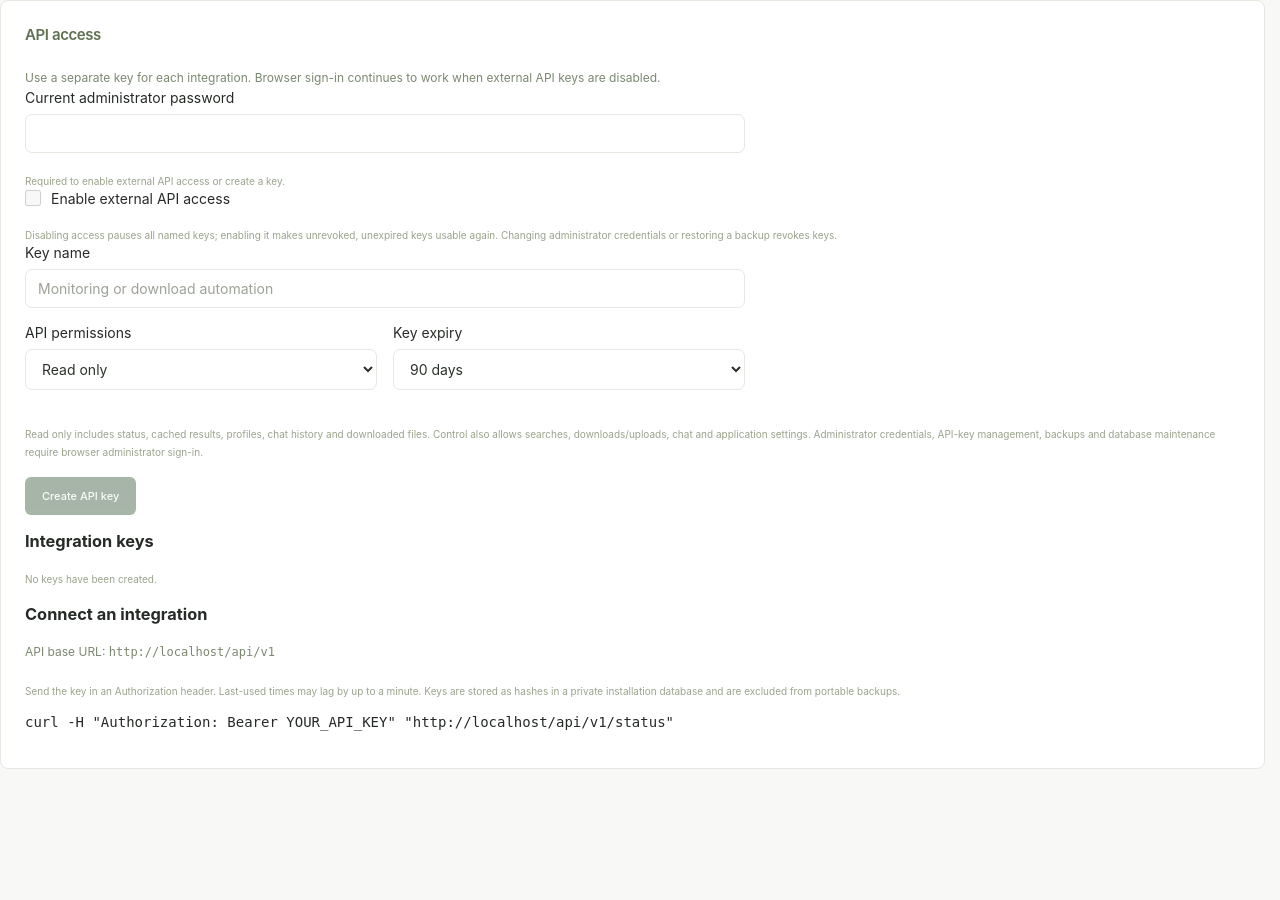
Scenario: restores the disabled switch if enabling is rejected
This screenshot has width=1280, height=900.
Expected: the text "No keys have been created." is shown, [25, 573, 157, 585]
Type "wrong" into the password field labelled "Current administrator password".
click(385, 133); type("wrong")  # box [25, 114, 745, 153]
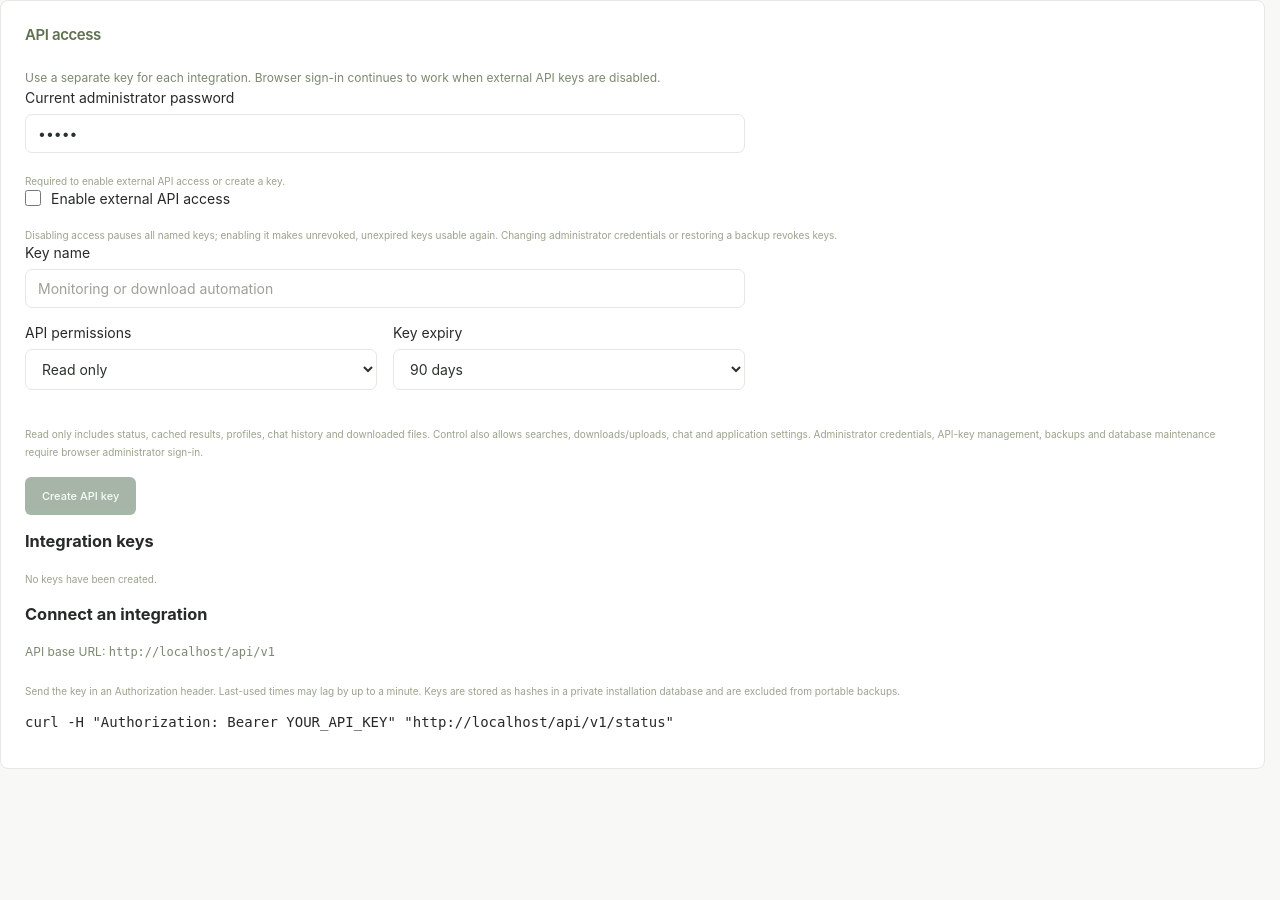
Click the checkbox labelled "Enable external API access".
click(33, 198)  # box [25, 190, 41, 206]
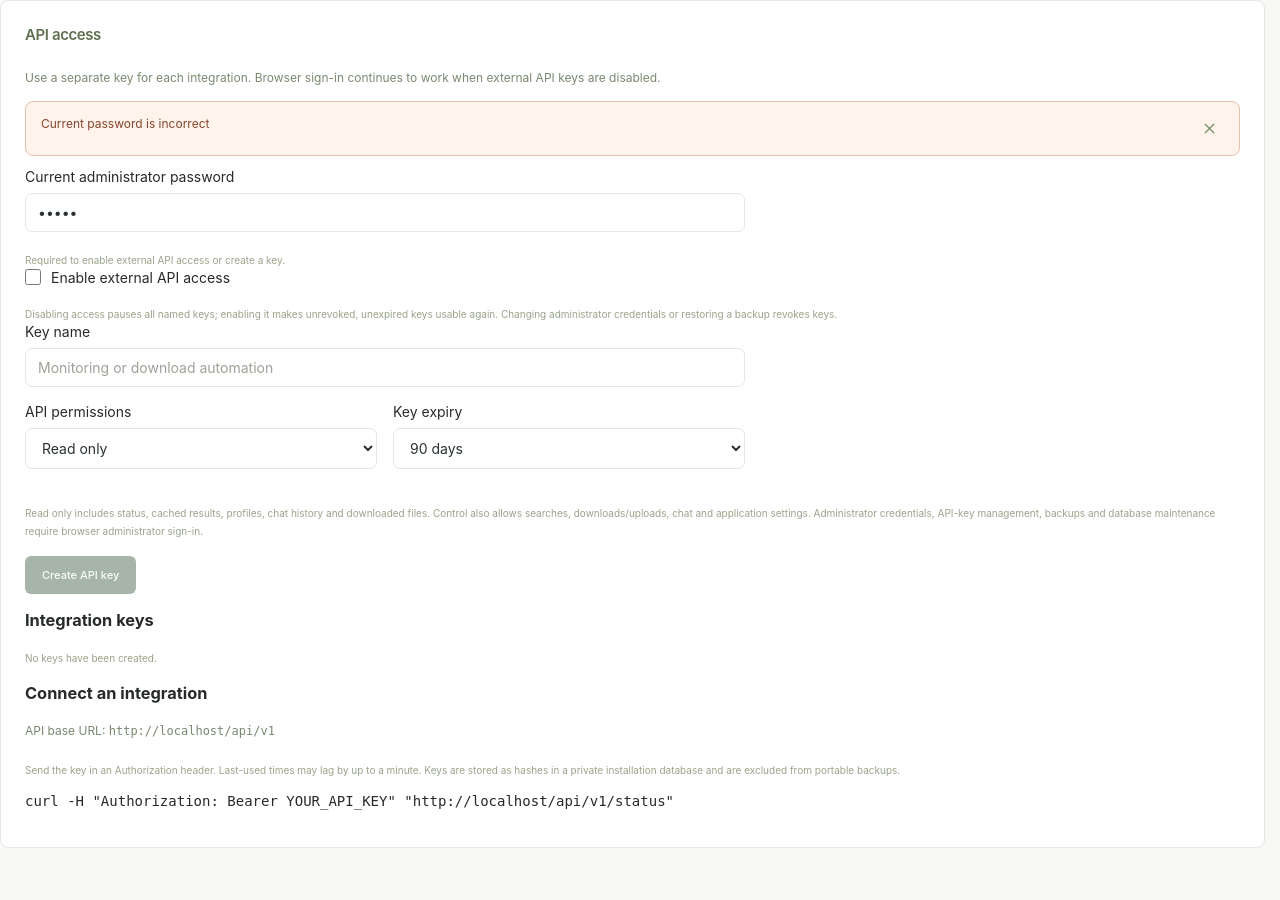
Expected: the checkbox labelled "Enable external API access" is not checked, [25, 269, 41, 285]
Now the message "Current password is incorrect" is shown, box [25, 101, 1240, 156]
